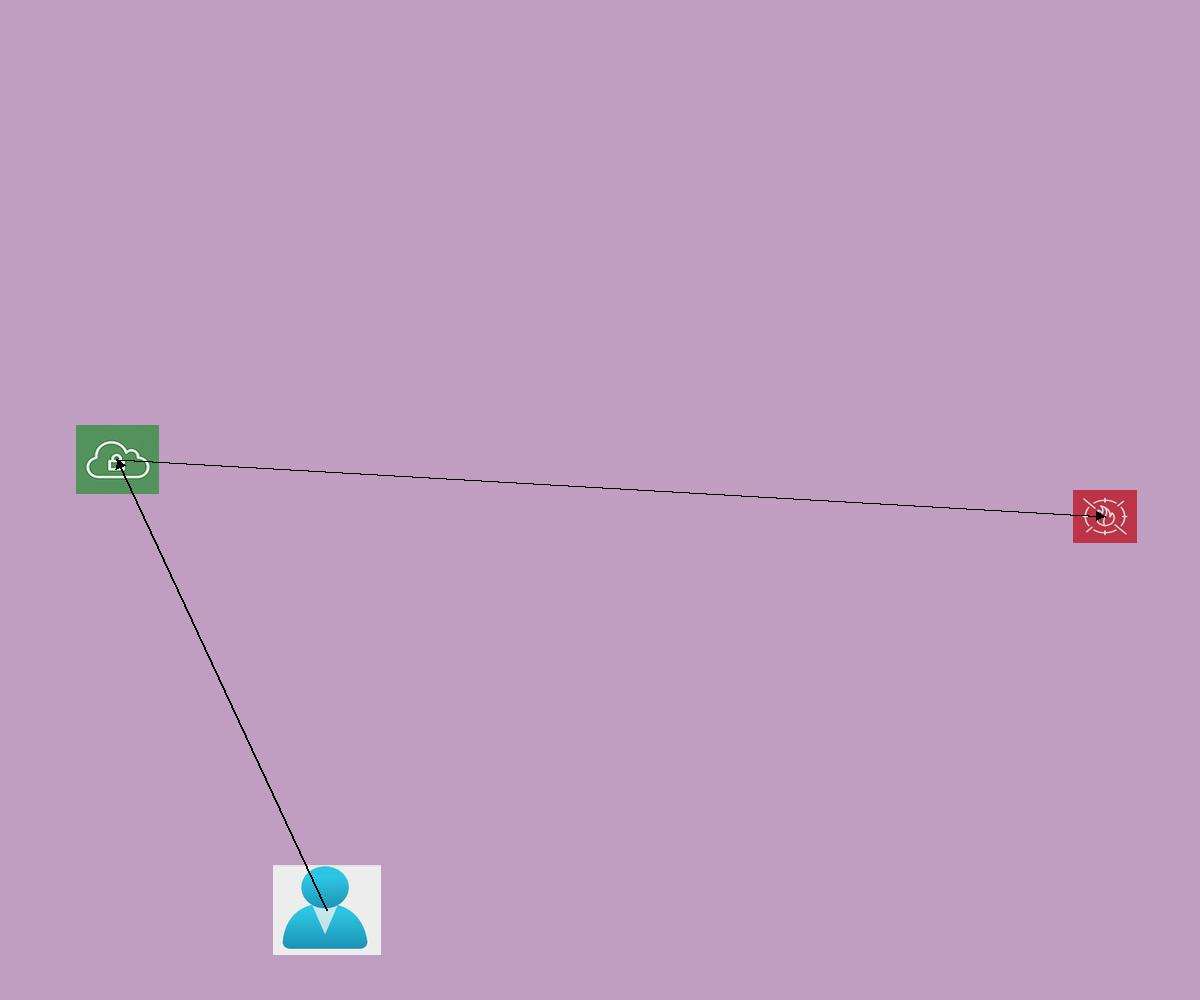AWS-Private_vpc: (76, 425, 159, 494)
AWS-WAF: (1073, 490, 1137, 543)
Azure_users: (273, 865, 381, 955)
